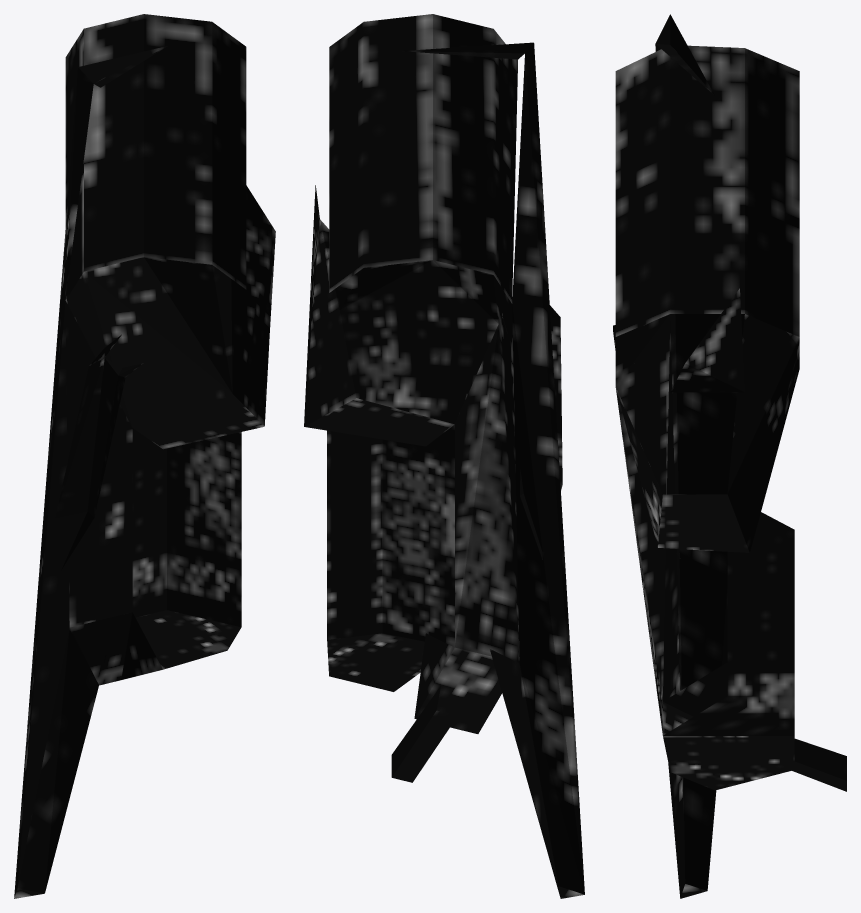
The model's file is UT_Eightball.gltf.
3 renders of one model, left to right at view 1: azimuth 30°, elevation 25°; view 2: azimuth 150°, elevation 25°; view 3: azimuth 270°, elevation 25°, orthographic. The views are drawn at different scales.
Visible parts, largest first — view 1: UT_Eightball; view 2: UT_Eightball; view 3: UT_Eightball.
Boxes of the visible parts, x1,y1,x2,y2 form: UT_Eightball: (14,14,275,898); UT_Eightball: (304,14,584,898); UT_Eightball: (613,14,846,898).
Bounding box in the file's own units: 0.3662 × 1.1 × 0.2588.
1 material, 1 textured.
